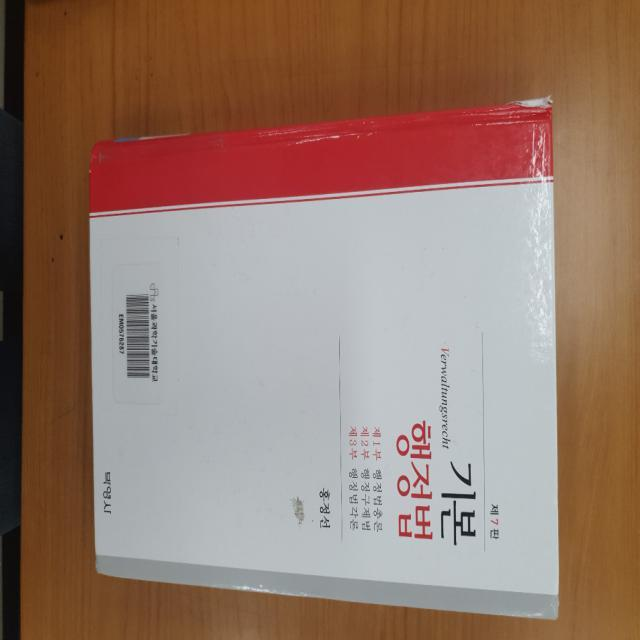Ripped: (489, 91, 555, 113)
Wornout: (548, 570, 563, 623)
